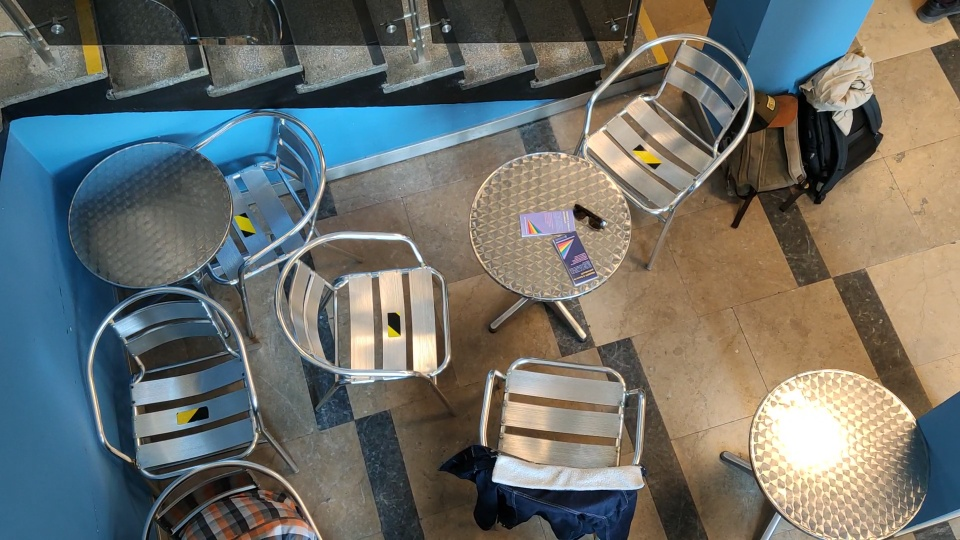chair: (575, 34, 762, 268), (84, 285, 305, 471), (183, 111, 361, 317), (276, 226, 454, 410), (472, 353, 650, 530)
table: (717, 362, 947, 540), (462, 148, 636, 349), (68, 139, 235, 287)
